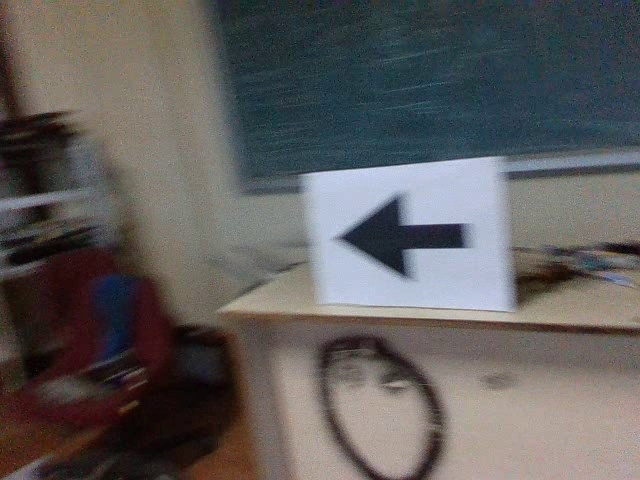Left: (327, 187, 477, 284)
